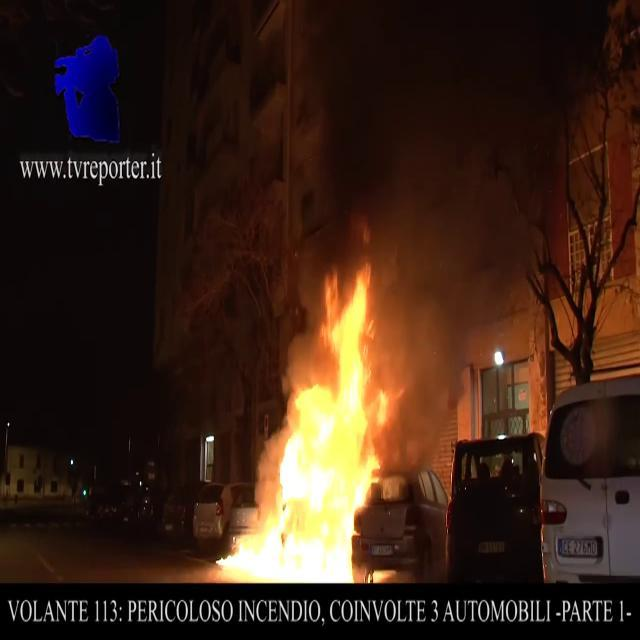Fire: (221, 260, 396, 590)
Smoke: (294, 6, 636, 358)
